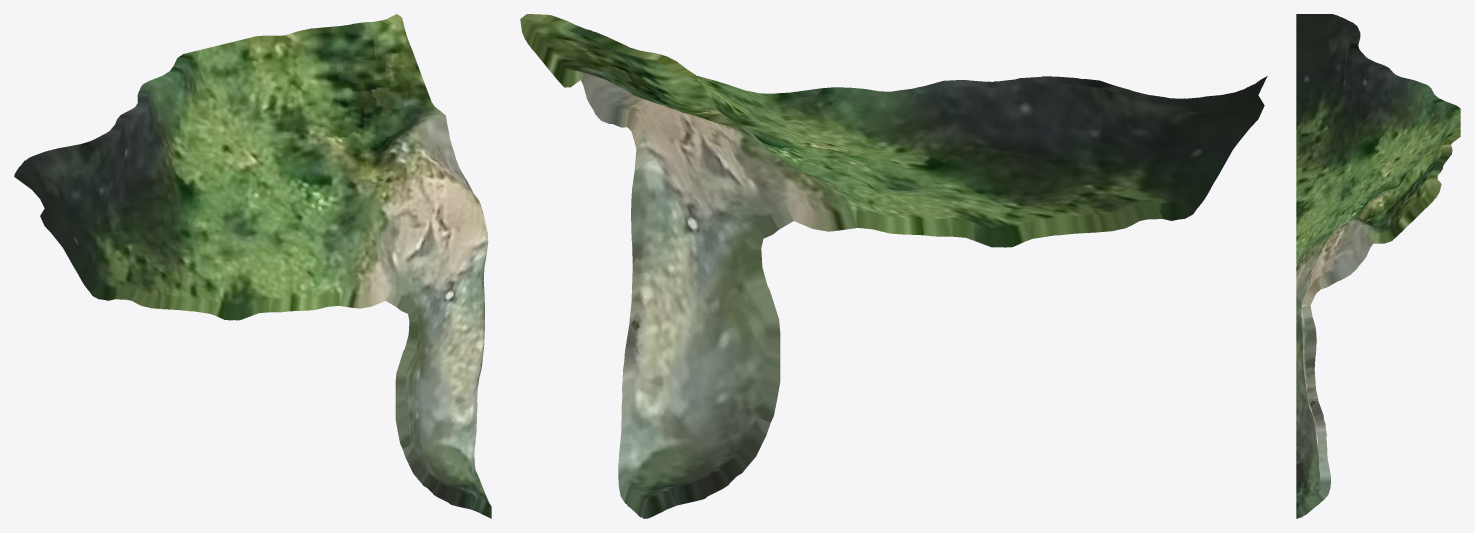
Rendered from z20-167754-405191-h0-yup-uvflip-v3-world.glb.
The picture shows the model from 3 angles, left to right: view 1: azimuth 30°, elevation 25°; view 2: azimuth 150°, elevation 25°; view 3: azimuth 270°, elevation 25°; orthographic projection. The views are drawn at different scales.
Size of the model in its own units: 23.6 by 21.64 by 9.64.
1 material, 1 textured.
